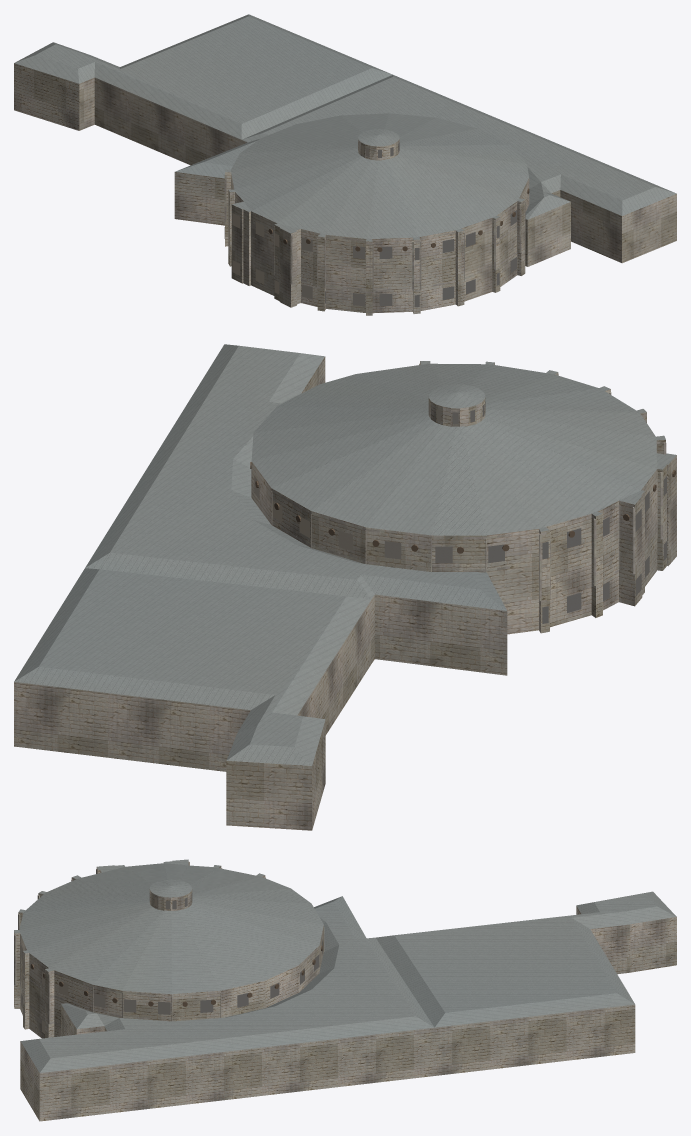
Rendered from cirque-d-hiver.glb.
3 renders of one model, top to bottom at view 1: azimuth 30°, elevation 25°; view 2: azimuth 150°, elevation 25°; view 3: azimuth 270°, elevation 25°, orthographic. The views are drawn at different scales.
Parts seen in each view (by area): view 1: roof, stone, window, trim; view 2: roof, stone, window, trim; view 3: roof, stone, window, trim.
Boxes of the visible parts, x1,y1,x2,y2 form: roof: [14, 14, 676, 241]; stone: [14, 63, 676, 315]; window: [224, 142, 516, 307]; trim: [224, 174, 525, 293]; roof: [14, 344, 676, 765]; stone: [14, 356, 676, 830]; window: [254, 402, 666, 623]; trim: [251, 362, 676, 604]; roof: [14, 859, 676, 1072]; stone: [14, 862, 676, 1121]; window: [21, 893, 322, 1036]; trim: [14, 861, 324, 1025].
Size of the model in its own units: 57.87 by 17.2 by 87.05.
5 materials, 5 textured.
